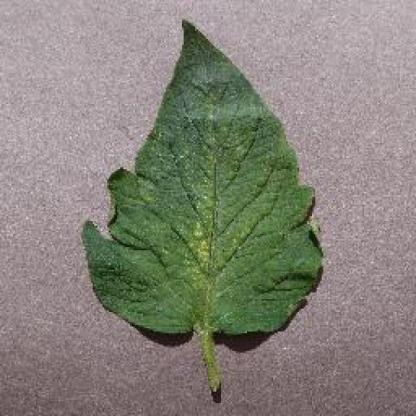Tomato_Spider_Mites: (85, 21, 320, 332)
